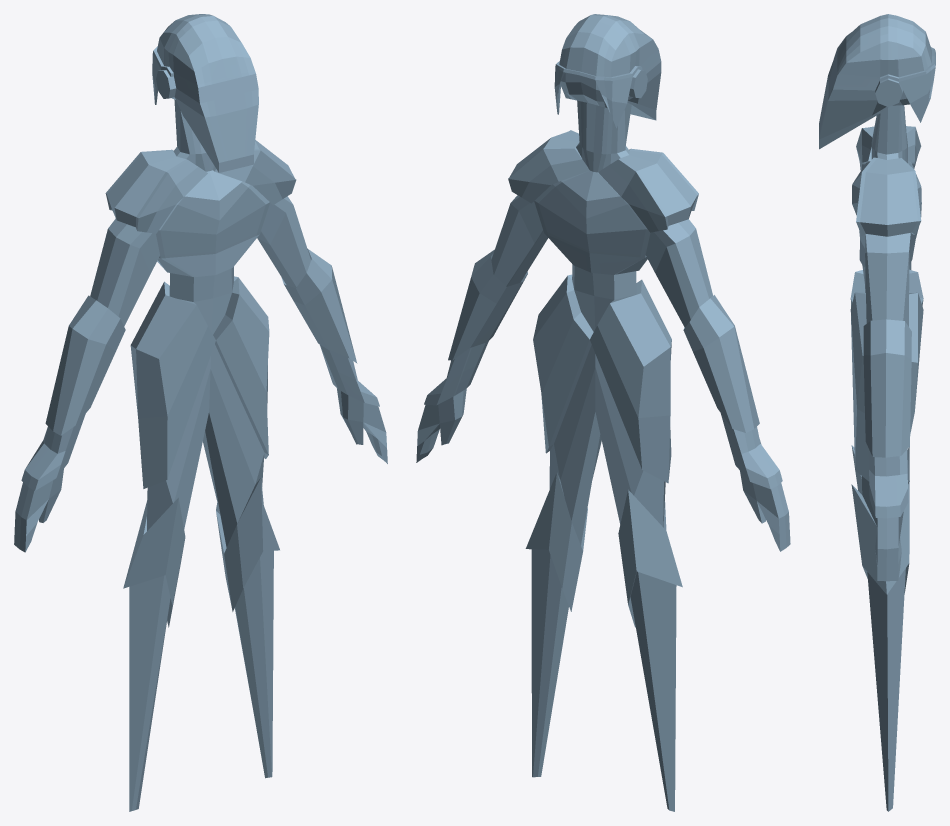
The model's file is CHARA02.fbx.
3 views of the same model, side by side, from view 1: azimuth 30°, elevation 25°; view 2: azimuth 150°, elevation 25°; view 3: azimuth 270°, elevation 25° (orthographic). The views are drawn at different scales.
Parts seen in each view (by area): view 1: Cube; view 2: Cube; view 3: Cube.
Part boxes in pixels (<box>): Cube: <box>14,14,387,811</box>; Cube: <box>416,14,790,811</box>; Cube: <box>819,14,935,811</box>.
Bounding box in the file's own units: 127 × 260 × 36.24.
